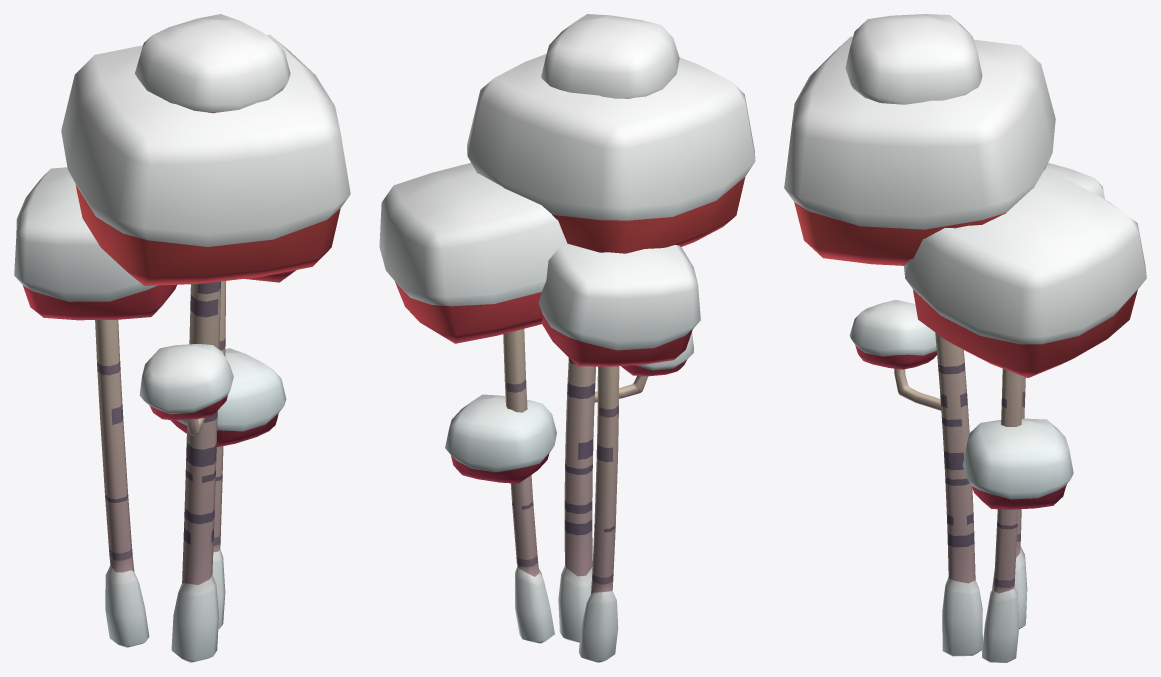
File: birch_tree_SC_05_snow.fbx
The picture shows the model from 3 angles, left to right: view 1: azimuth 30°, elevation 25°; view 2: azimuth 150°, elevation 25°; view 3: azimuth 270°, elevation 25°; orthographic projection. The views are drawn at different scales.
Parts seen in each view (by area): view 1: birch_tree_SC_05_snow; view 2: birch_tree_SC_05_snow; view 3: birch_tree_SC_05_snow.
Boxes of the visible parts, x1,y1,x2,y2 form: birch_tree_SC_05_snow: (14,14,350,662); birch_tree_SC_05_snow: (379,14,755,662); birch_tree_SC_05_snow: (784,14,1146,662).
Bounding box in the file's own units: 435 × 819 × 432.
1 material, 1 textured.
